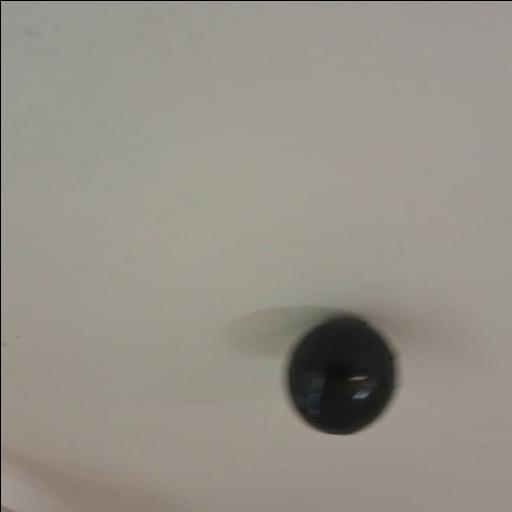dead: (283, 316, 399, 436)
